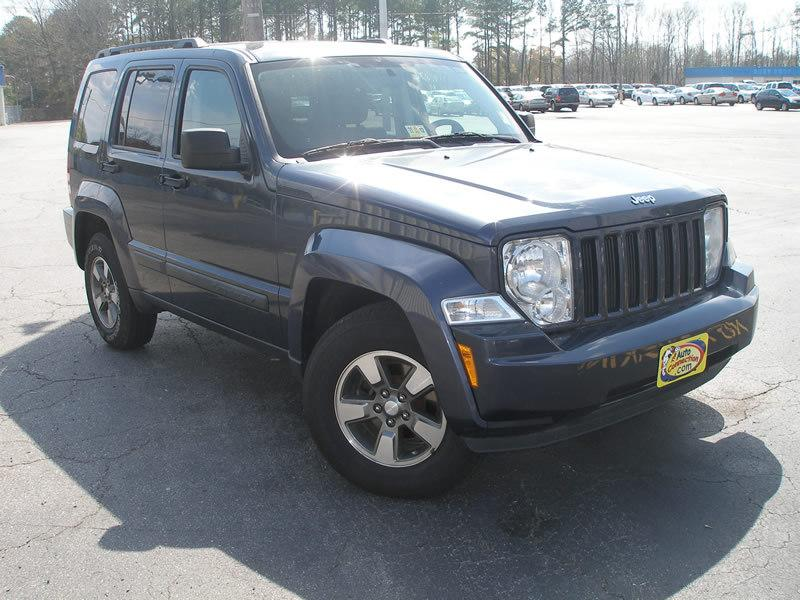jeep: (624, 190, 662, 211)
